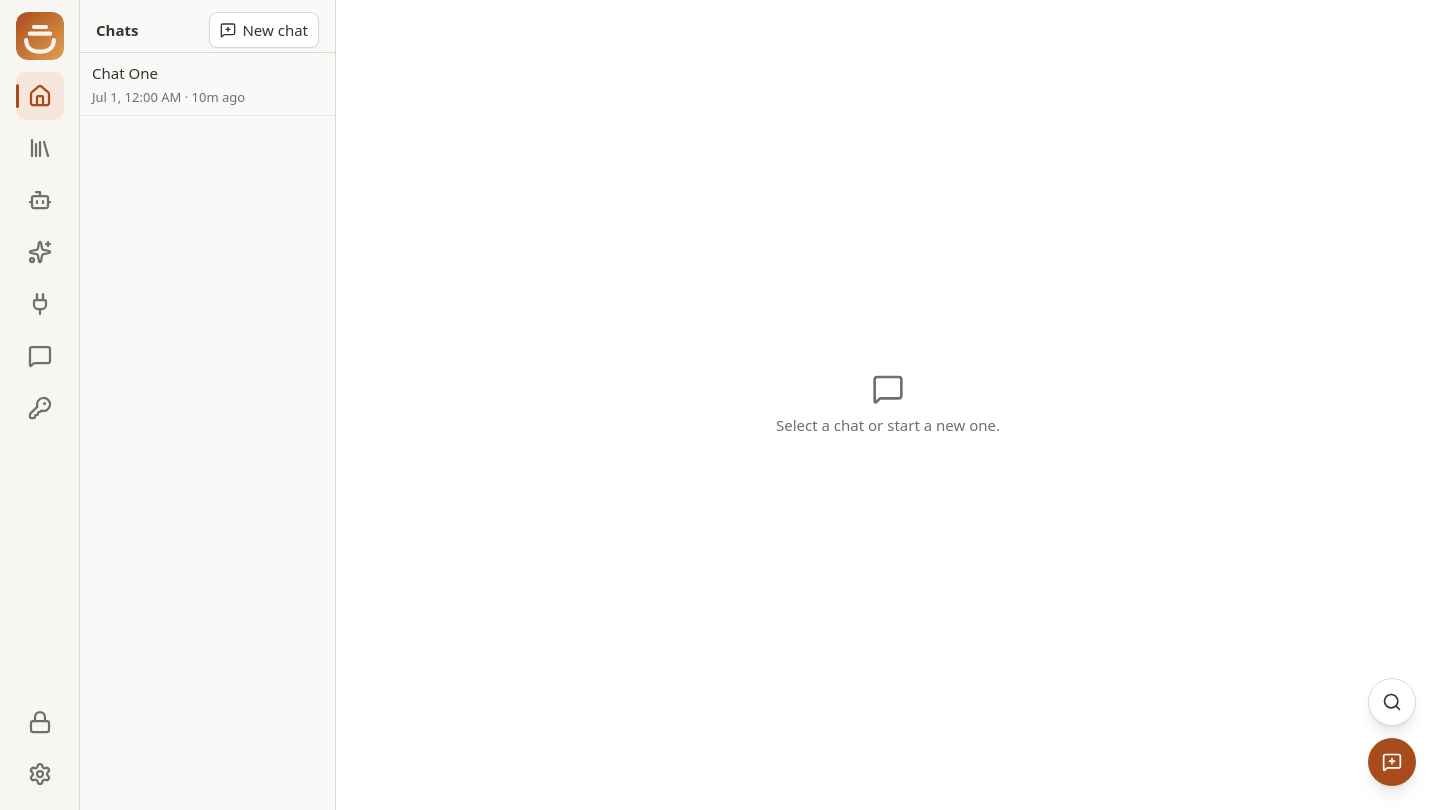
Scenario: opens a newly created chat on the first click
expect the text "Chat One" is shown: met, box [92,61,158,85]
Click the button "New chat".
click(264, 30)  # box [209,12,319,48]
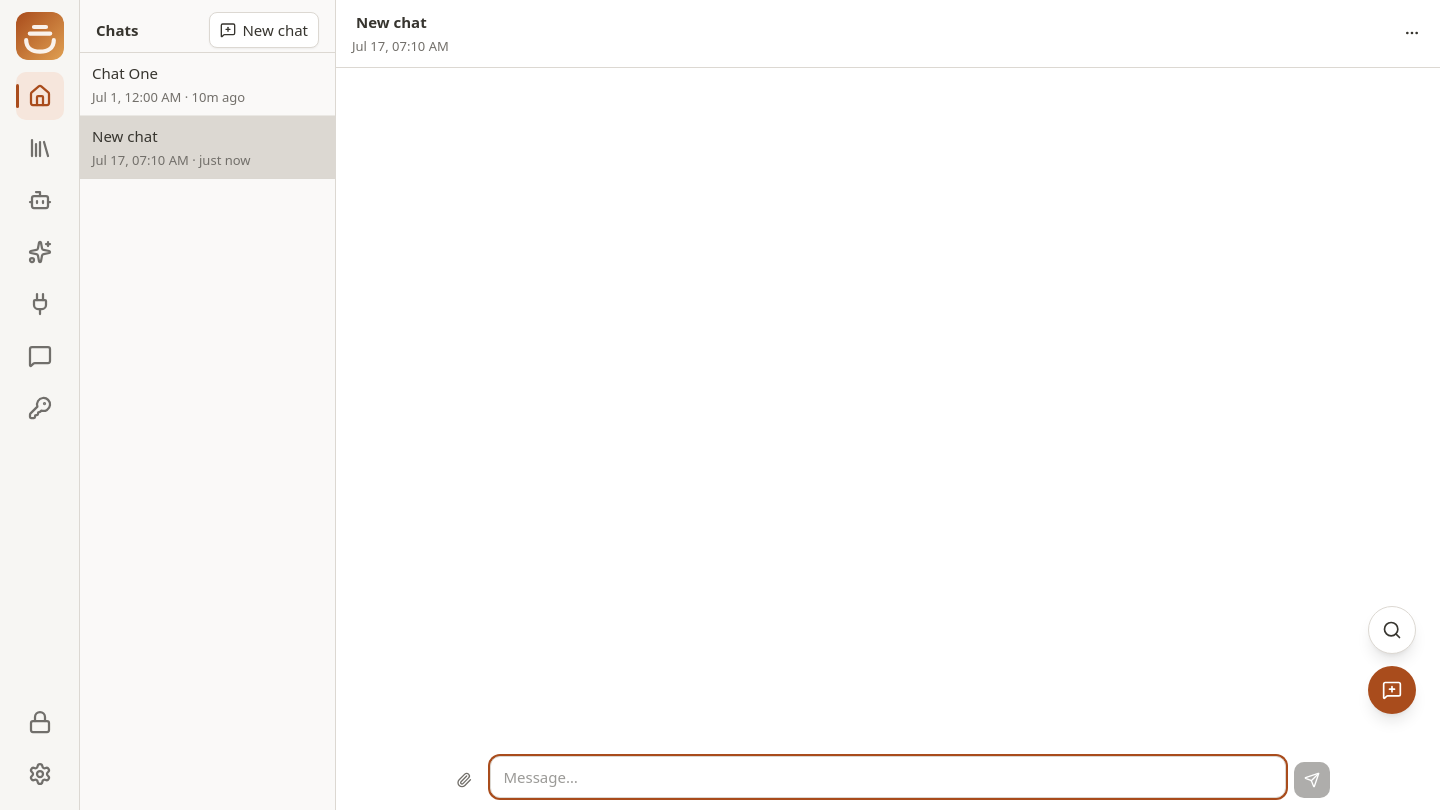
expect the element with test id "chat-window" is shown: met
